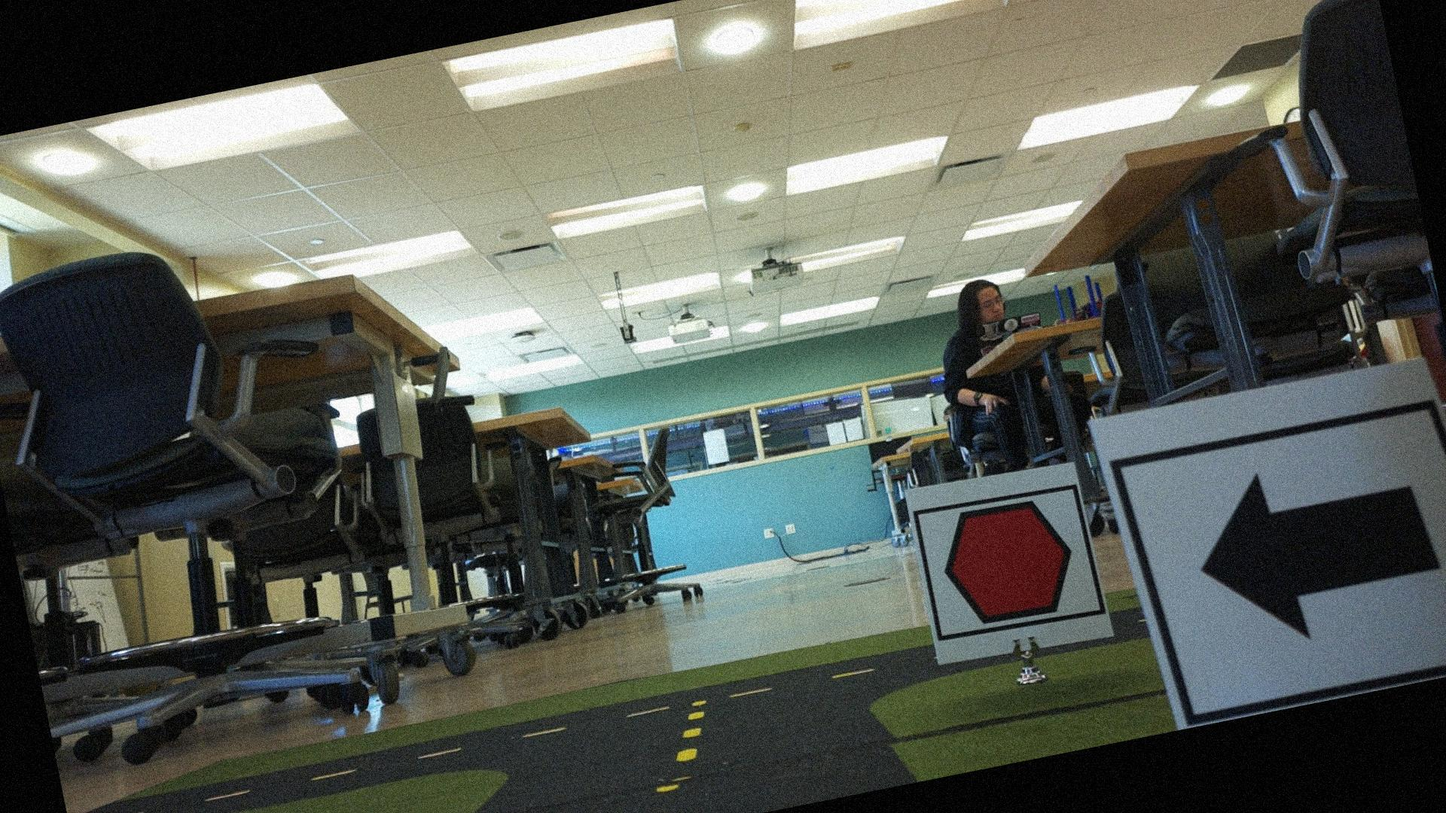stop: (913, 486, 1101, 641)
turnright: (1125, 402, 1445, 726)
yellowline: (623, 708, 723, 812)
